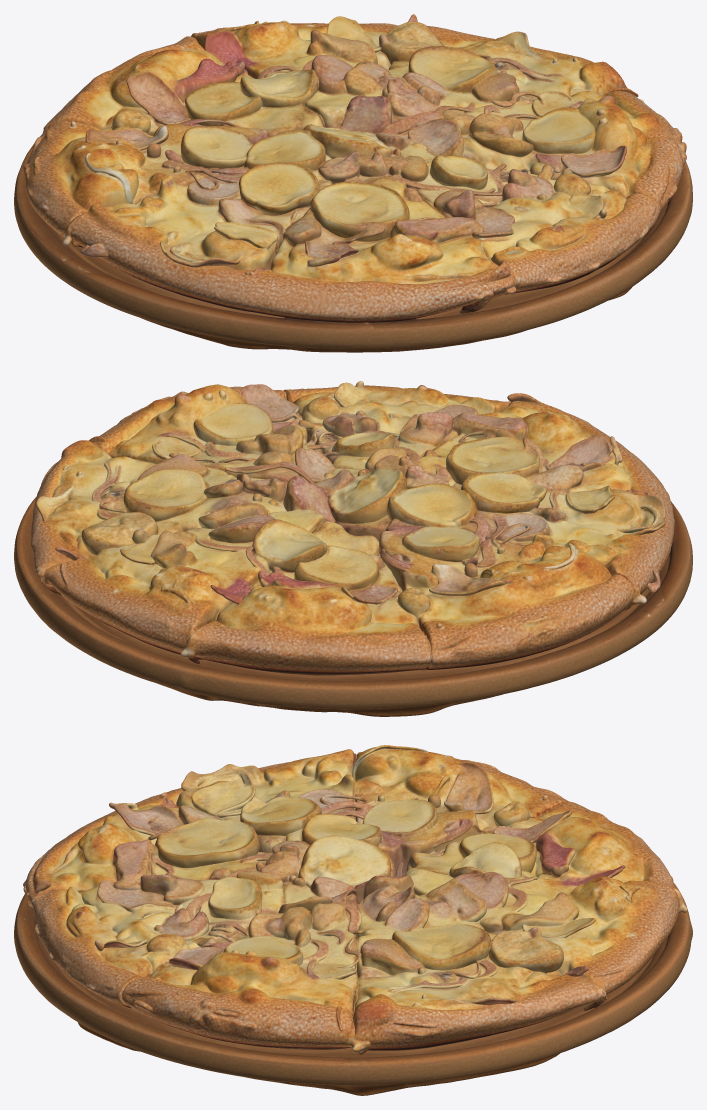
Rendered from pizza.glb.
3 renders of one model, top to bottom at view 1: azimuth 30°, elevation 25°; view 2: azimuth 150°, elevation 25°; view 3: azimuth 270°, elevation 25°, orthographic.
Visible parts, largest first — view 1: tripo_node_f95d89ab-a08d-4207-b1ed-fbffa70f9dc1; view 2: tripo_node_f95d89ab-a08d-4207-b1ed-fbffa70f9dc1; view 3: tripo_node_f95d89ab-a08d-4207-b1ed-fbffa70f9dc1.
Boxes of the visible parts, bbox=[...] form: tripo_node_f95d89ab-a08d-4207-b1ed-fbffa70f9dc1: bbox=[14, 14, 692, 352]; tripo_node_f95d89ab-a08d-4207-b1ed-fbffa70f9dc1: bbox=[14, 381, 692, 716]; tripo_node_f95d89ab-a08d-4207-b1ed-fbffa70f9dc1: bbox=[14, 745, 692, 1095].
Size of the model in its own units: 0.9989 by 0.1796 by 1.
1 material, 1 textured.
